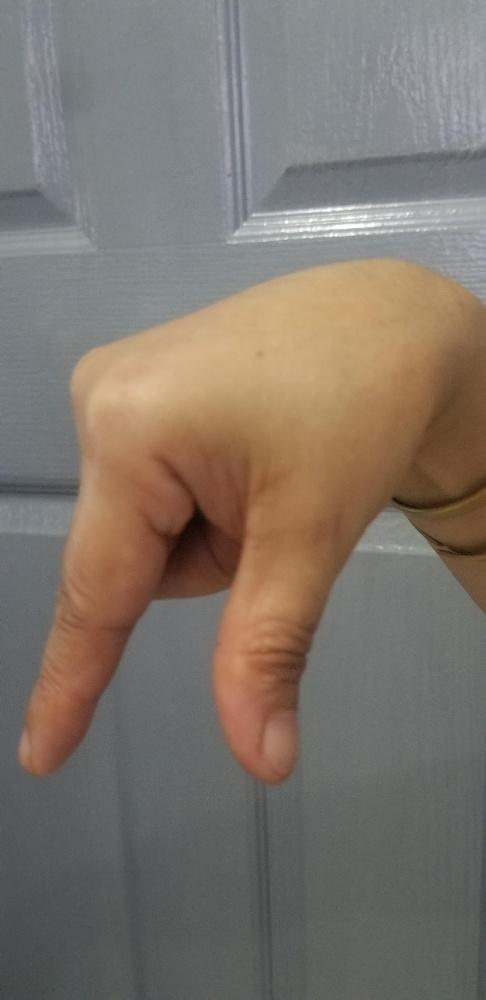q: (11, 253, 458, 788)
